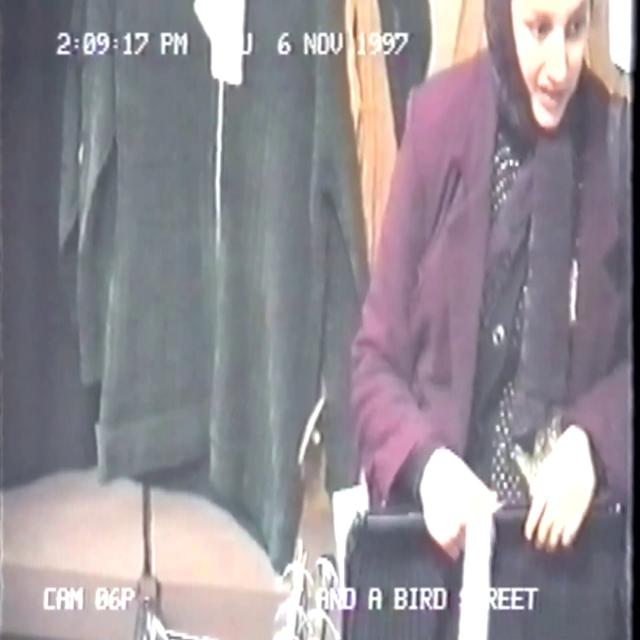Product: (361, 500, 611, 640)
shoplifting: (315, 0, 640, 640)
